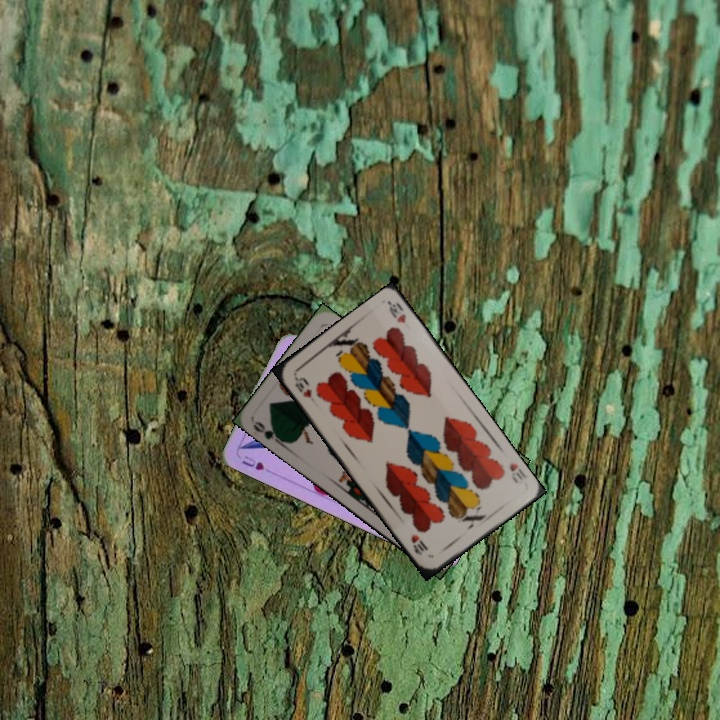GO: (249, 417, 287, 448)
H10: (290, 372, 315, 400), (505, 459, 529, 486)
HU: (238, 451, 267, 473)
